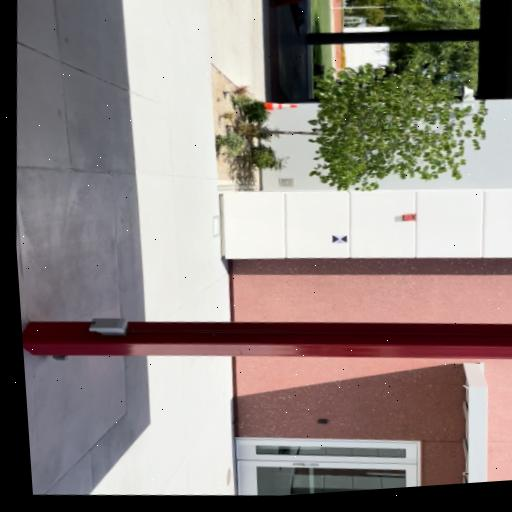target6: (331, 234, 348, 245)
